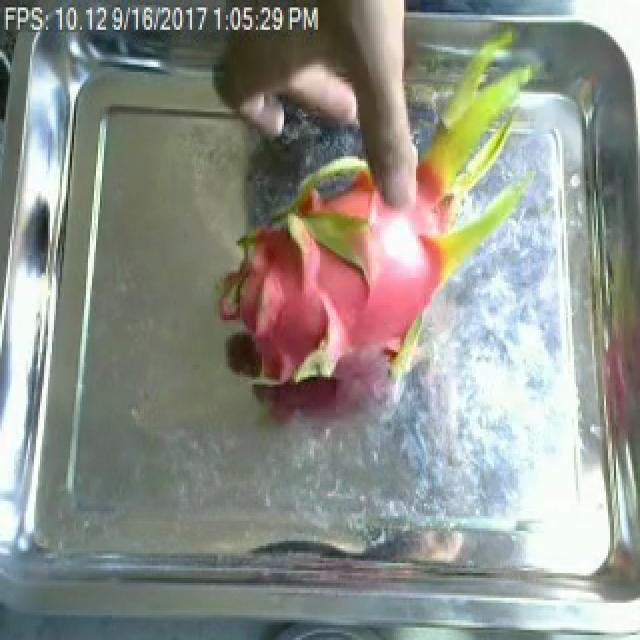fruit: (188, 32, 556, 424)
